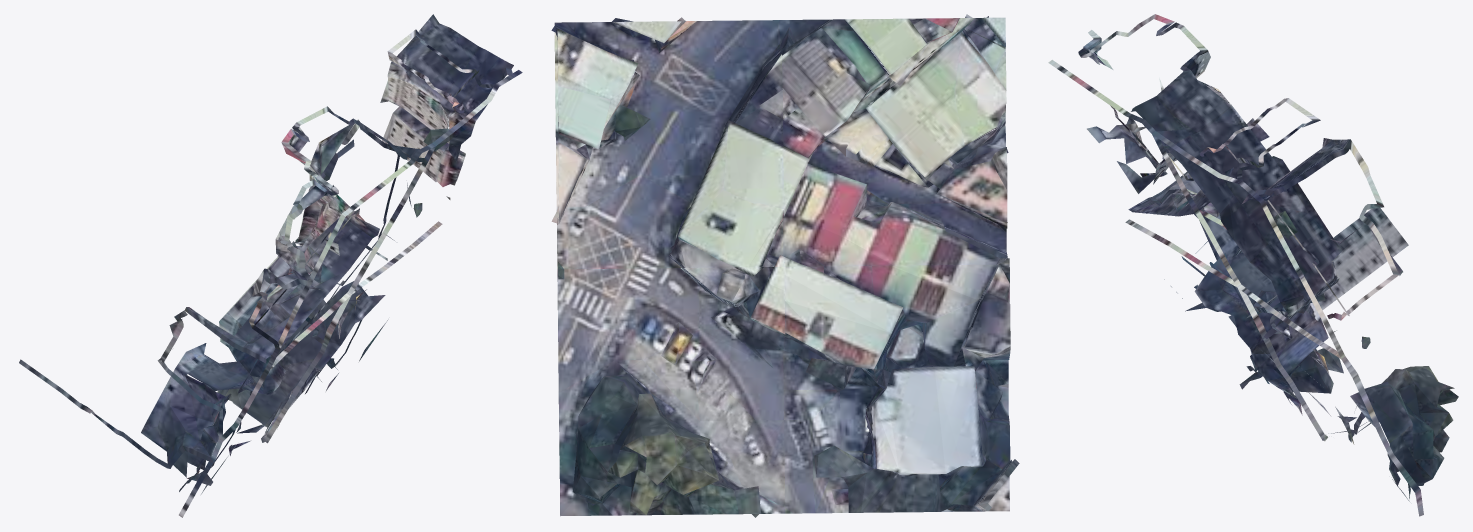
3 views of the same model, side by side, from view 1: azimuth 30°, elevation 25°; view 2: azimuth 150°, elevation 25°; view 3: azimuth 270°, elevation 25° (orthographic). The views are drawn at different scales.
Size of the model in its own units: 94.59 by 76.92 by 71.7.
1 material, 1 textured.
